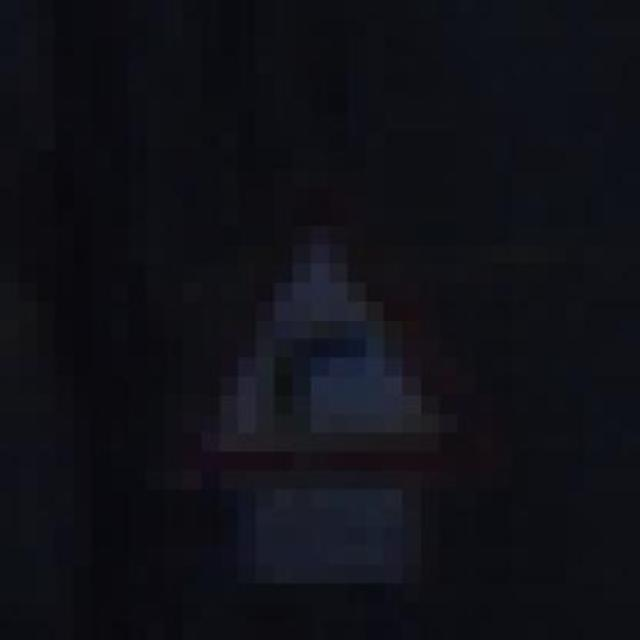Dangerous Rright Curve Ahead: (128, 151, 475, 489)
